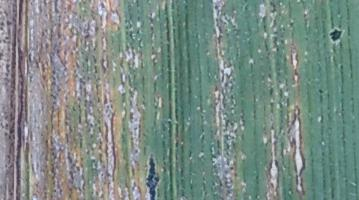tarspot: (146, 155, 160, 200), (329, 27, 343, 43), (317, 88, 324, 96)
